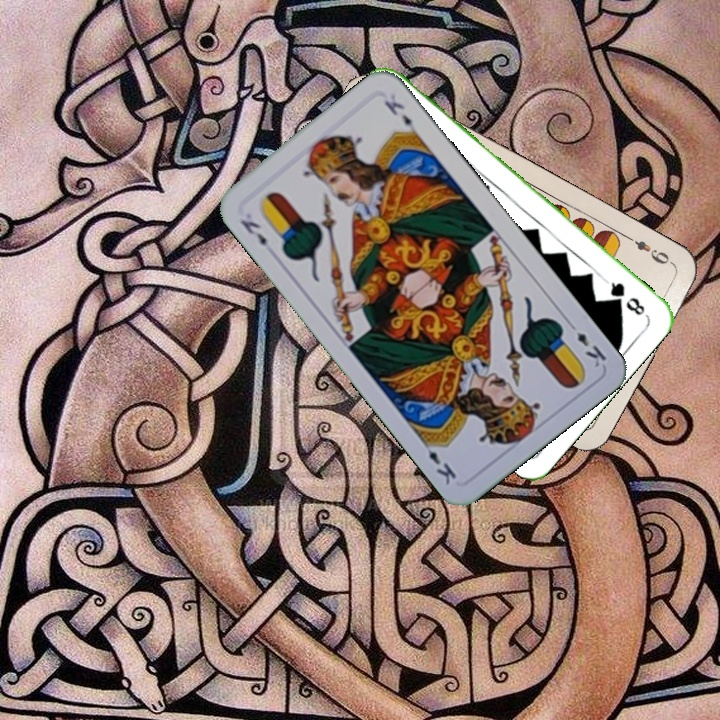E9: (623, 232, 676, 268)
EK: (563, 317, 609, 370), (236, 215, 270, 249)
G8: (601, 275, 648, 318)
